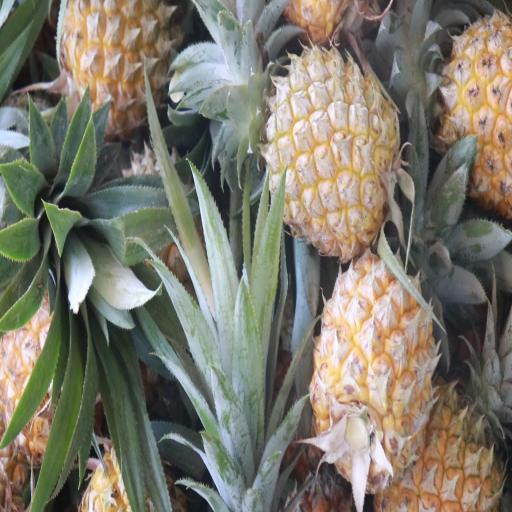------------------------------: (56, 0, 183, 134)
Pineapple - v8 v1: (265, 45, 401, 255), (310, 255, 428, 486), (424, 1, 512, 214), (371, 370, 503, 512)
